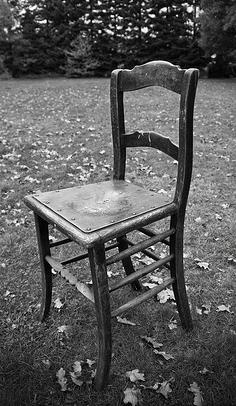obstacle: (24, 61, 198, 389)
